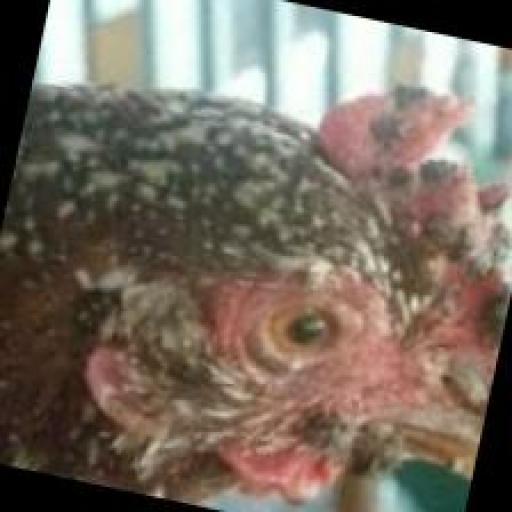disease: (302, 88, 510, 376), (335, 392, 467, 468)
